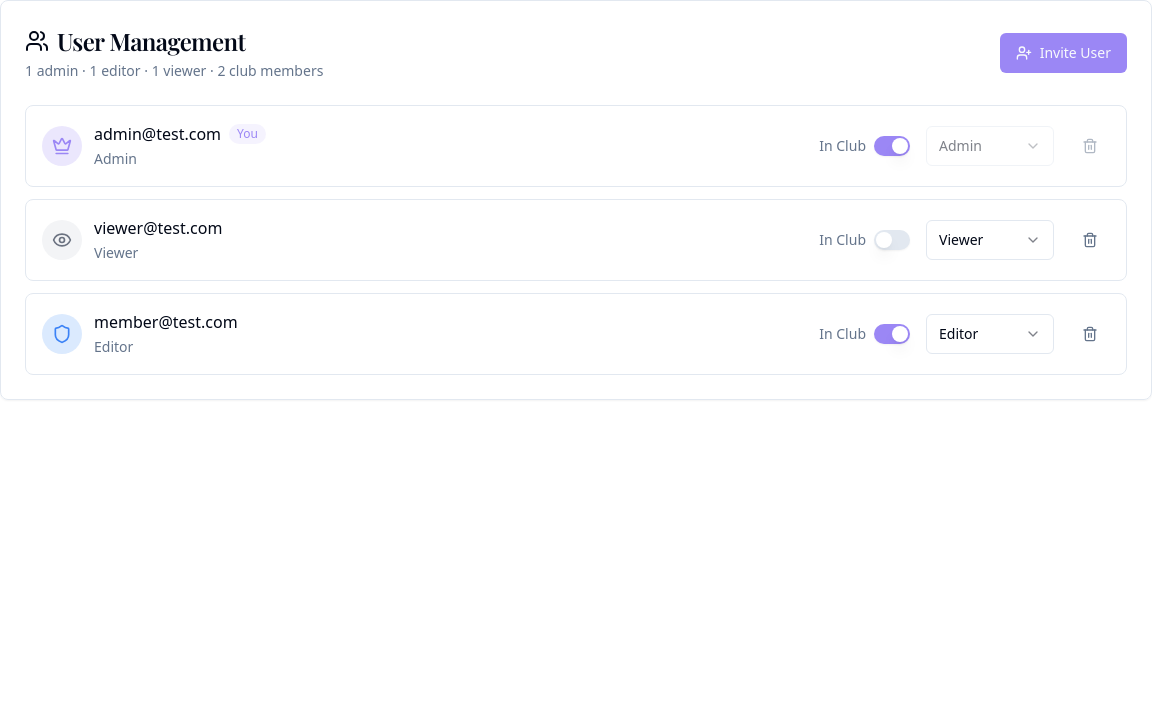
Test: UserManagement › Delete User › opens delete confirmation for other users
Expected: the text "viewer@test.com" is shown, left=94, top=216, right=222, bottom=240
Click the button without text in the row of "viewer@test.com" at {"x": 1090, "y": 240}, box left=1070, top=220, right=1110, bottom=260
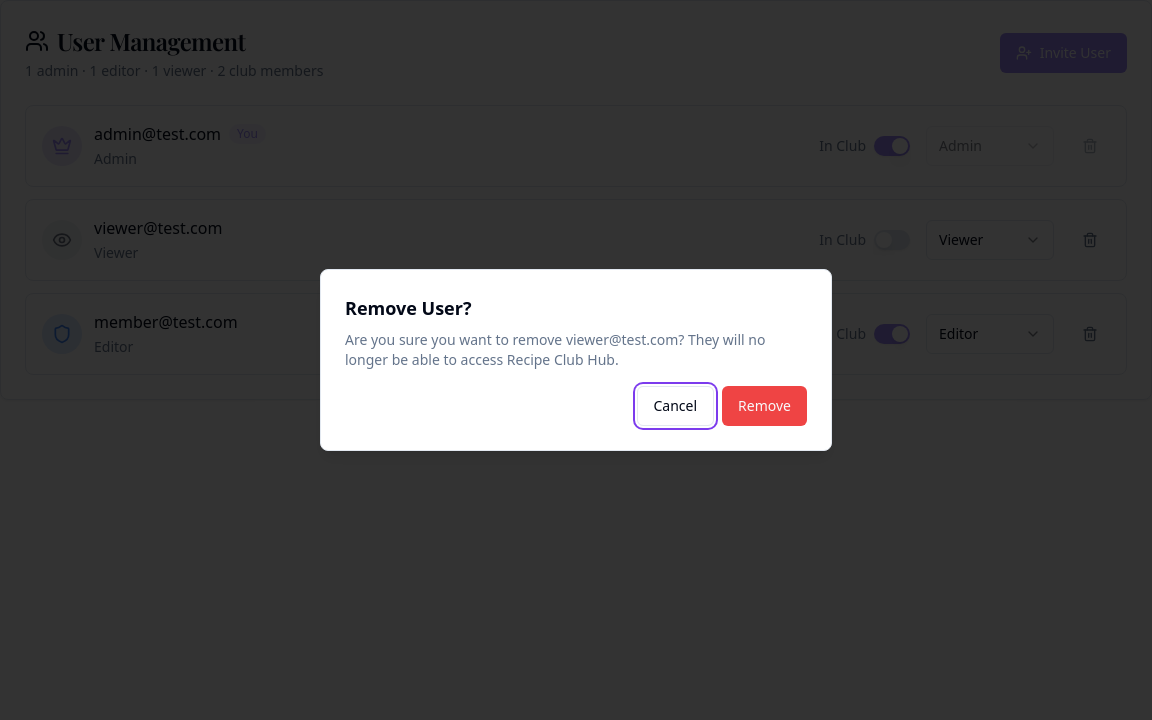
Expected: the heading "Remove User?" is shown, left=345, top=296, right=472, bottom=320
